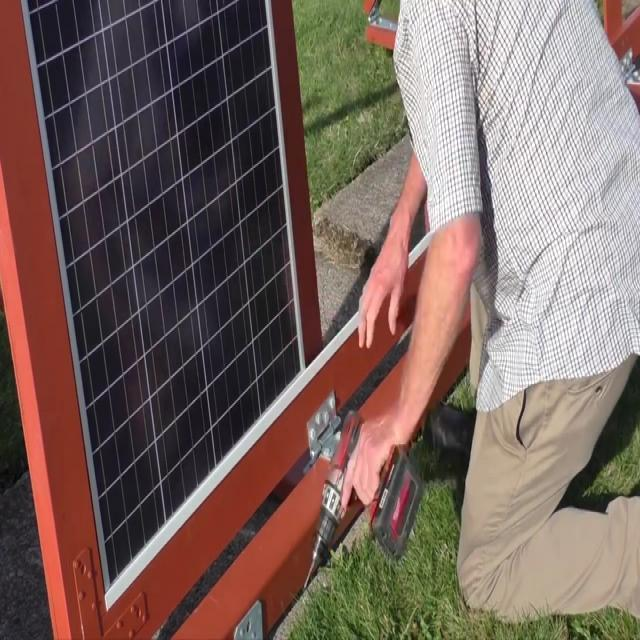Normal Solar Panel: (20, 0, 307, 589)
